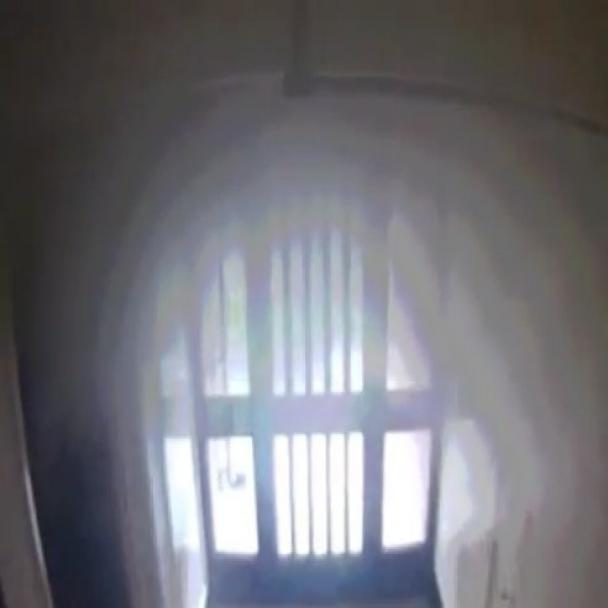smoke: (80, 46, 607, 574)
